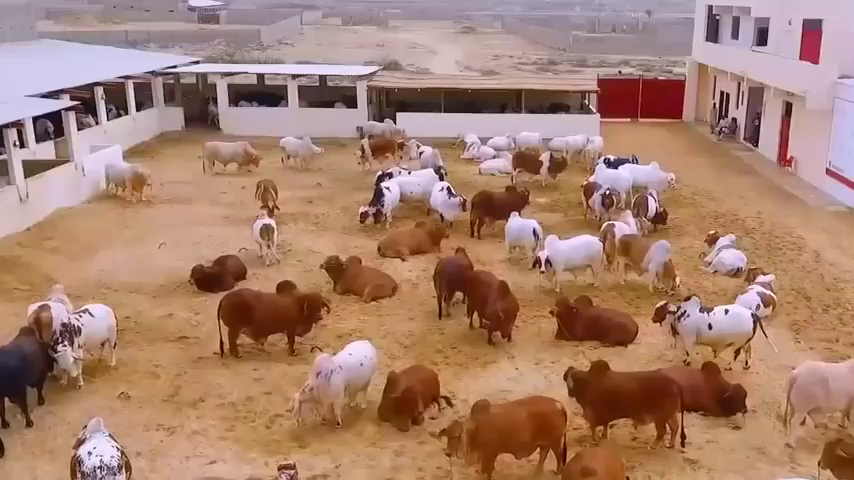bo: (430, 386, 565, 473), (649, 280, 773, 373), (557, 359, 689, 446), (207, 277, 324, 356), (652, 350, 754, 427), (292, 332, 374, 427), (546, 285, 643, 360), (779, 348, 847, 451), (46, 299, 131, 381), (369, 360, 442, 438), (3, 324, 48, 450), (527, 223, 607, 290), (63, 416, 142, 478), (610, 231, 686, 295), (313, 248, 397, 304), (461, 263, 517, 342), (546, 434, 640, 479), (426, 234, 472, 313), (469, 183, 531, 238), (380, 214, 446, 265), (18, 268, 69, 333), (183, 251, 250, 297), (99, 156, 162, 204), (238, 205, 289, 264), (734, 261, 783, 321), (510, 143, 570, 191), (352, 166, 398, 228), (700, 222, 749, 280), (496, 202, 539, 265), (576, 153, 640, 195), (193, 136, 262, 174), (266, 128, 328, 169), (346, 129, 406, 169), (623, 160, 684, 198), (384, 162, 437, 202), (427, 177, 468, 225), (631, 184, 672, 230), (813, 437, 854, 480), (246, 169, 286, 211), (576, 179, 614, 223), (395, 124, 436, 160), (476, 145, 514, 183), (599, 206, 637, 244), (383, 157, 447, 179), (548, 126, 587, 161), (355, 116, 409, 136), (511, 121, 545, 149), (456, 134, 491, 161), (581, 124, 607, 159), (27, 111, 60, 138), (485, 125, 514, 153), (101, 102, 131, 126), (453, 126, 478, 147), (71, 108, 96, 126)
